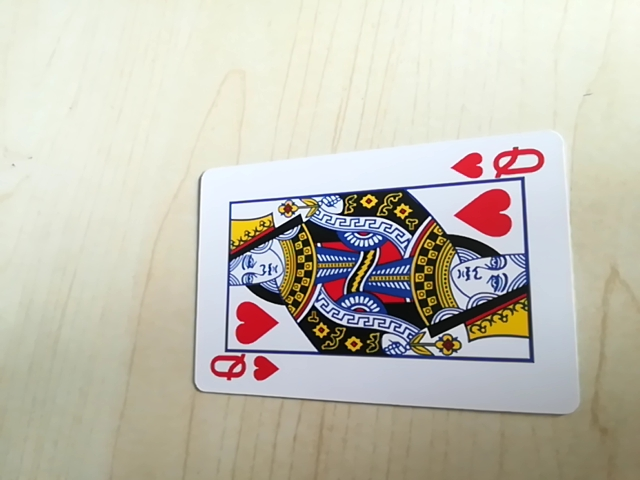hx q: (451, 142, 550, 184), (206, 351, 279, 389)
